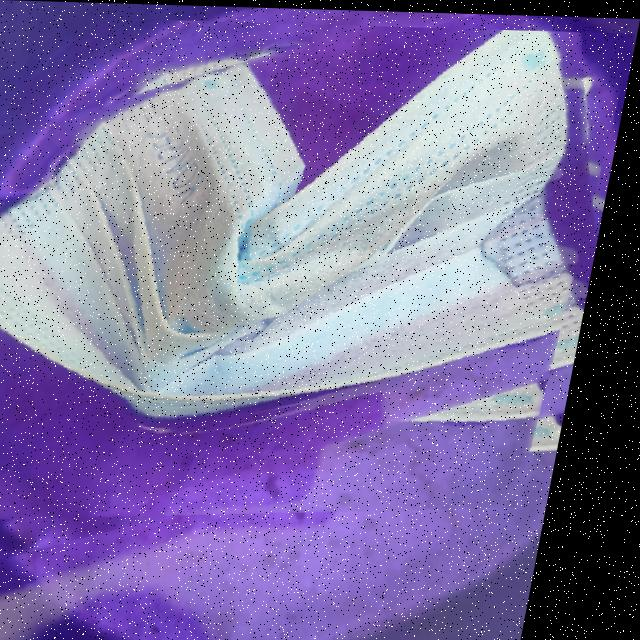mask: (0, 15, 638, 538)
